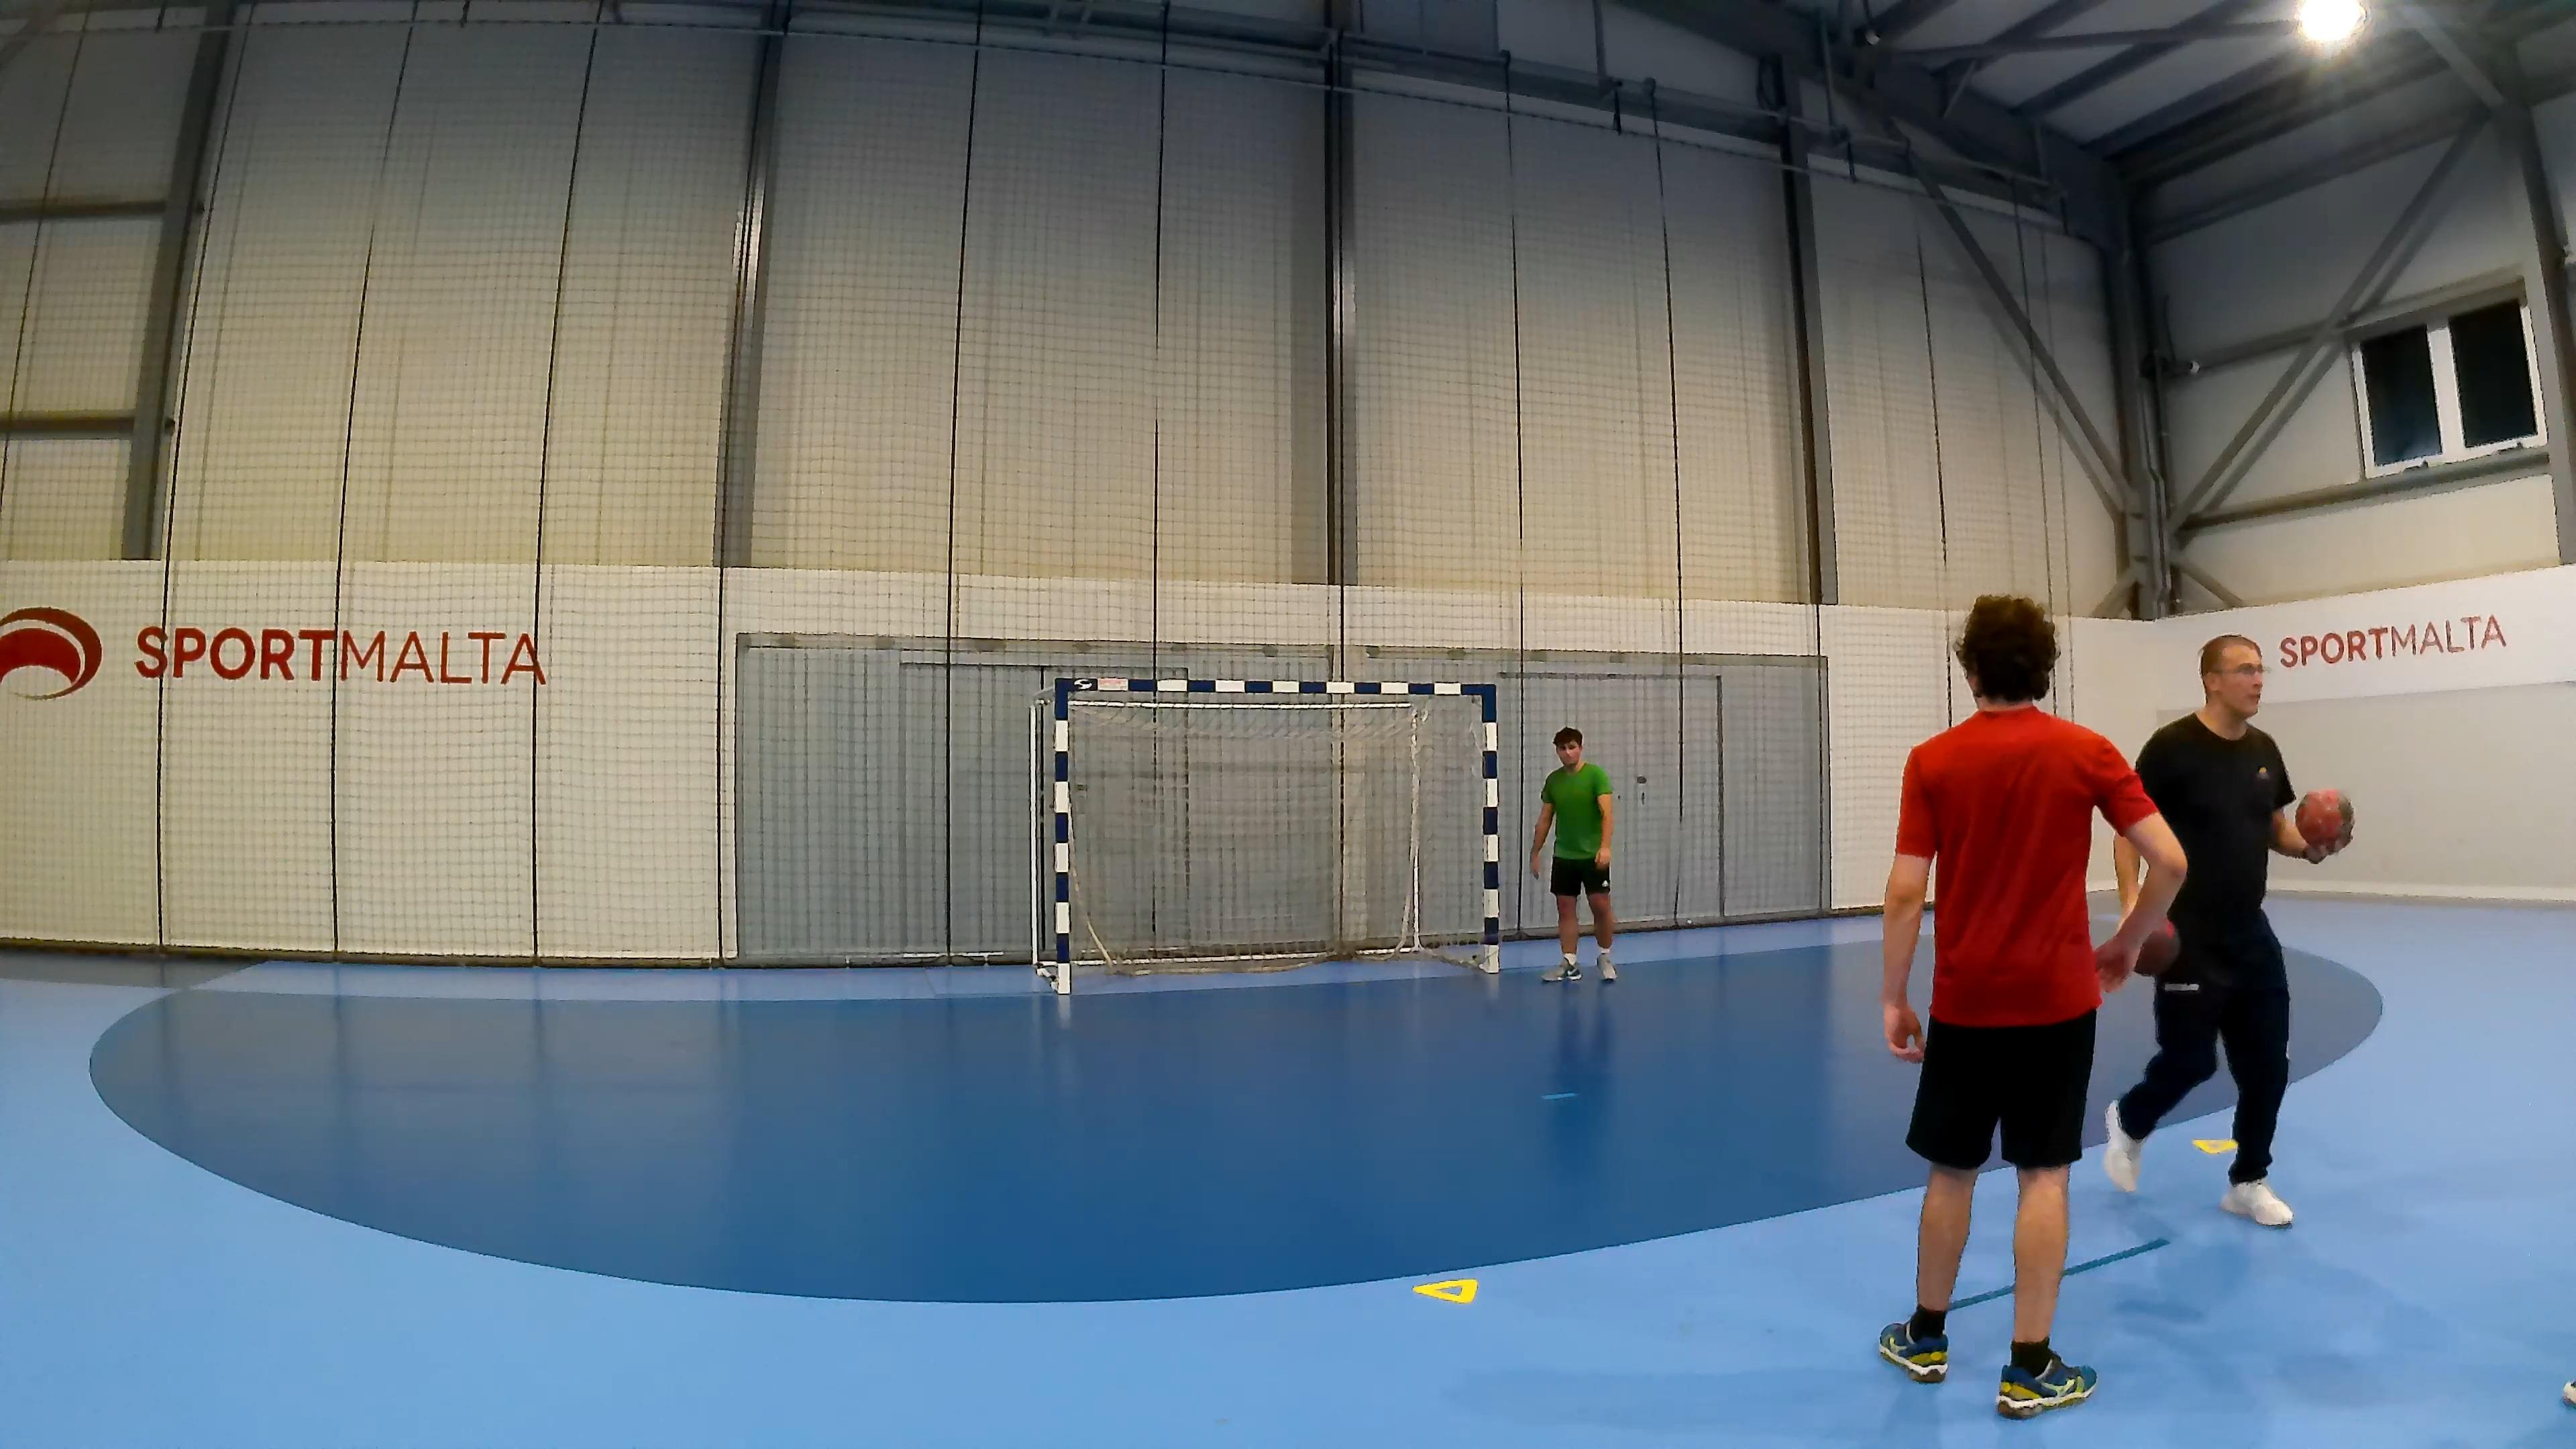handball: (2293, 787, 2353, 853), (2132, 918, 2180, 977)
